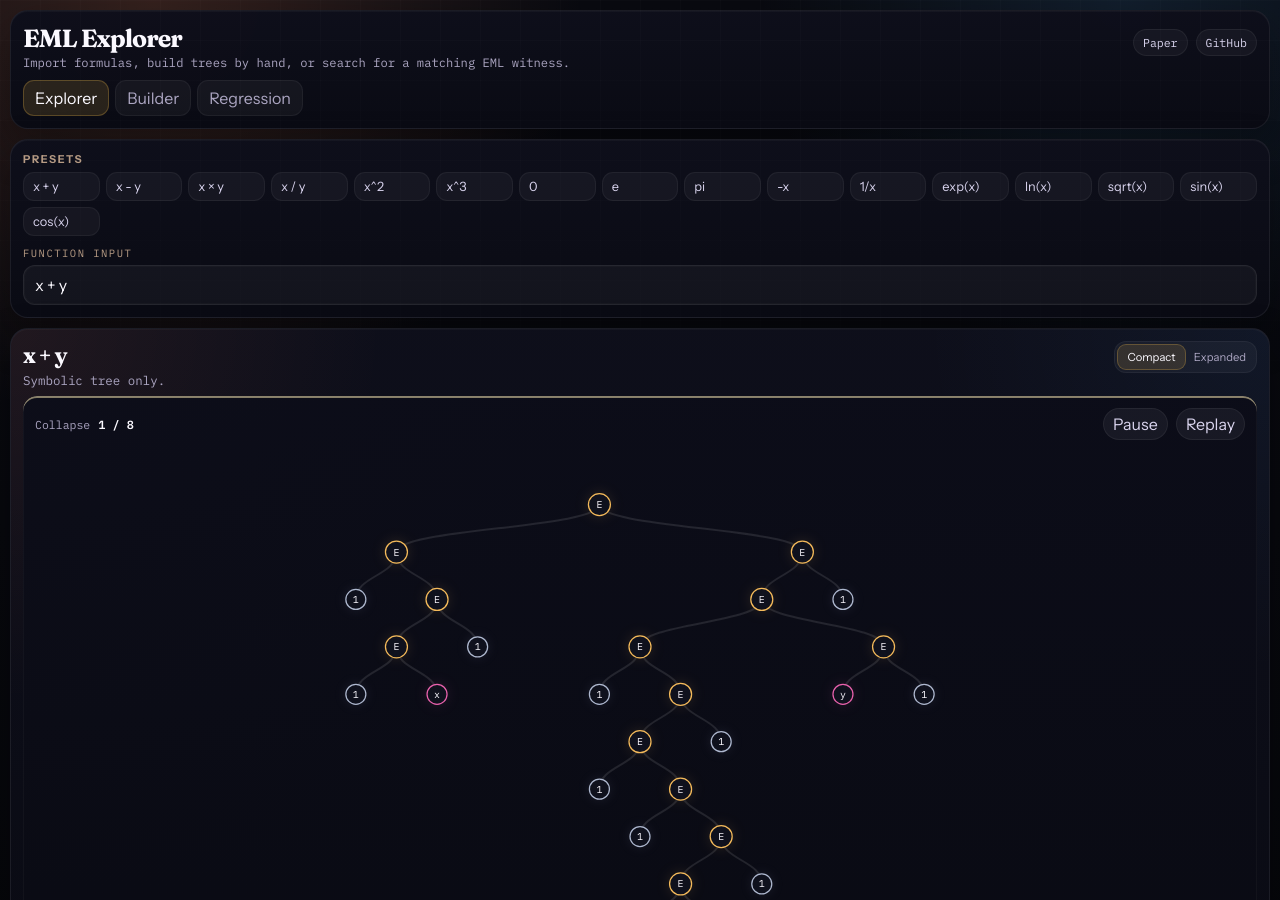
Scenario: App › loads a preset operation into the explorer from the top button bar
The width and height of the screenshot is (1280, 900).
Click the button with test id "preset-button-sub-xy" at (144, 186), box [106,172,182,201]
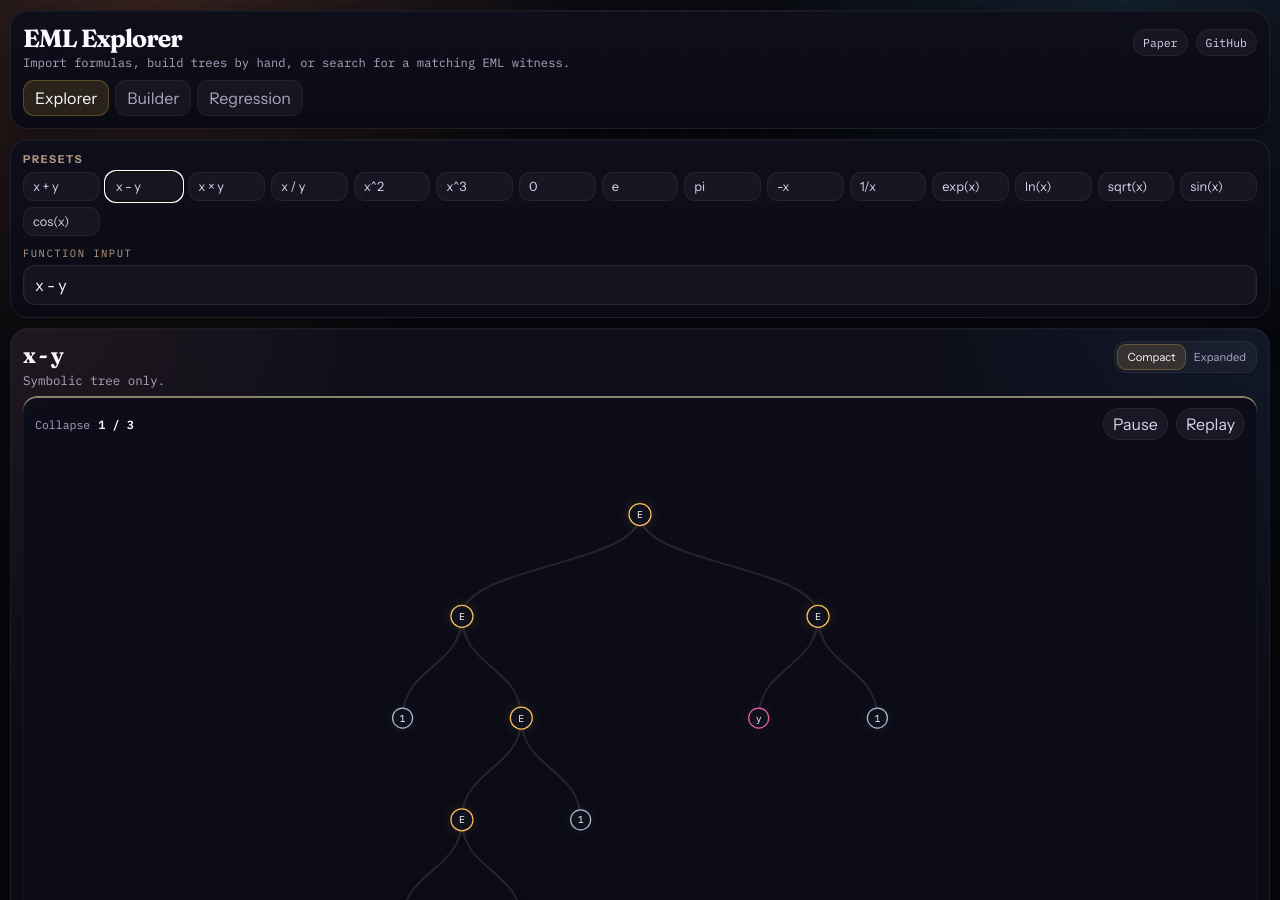
Check: the field with test id "import-input" holds "x - y", box [23,265,1257,305]
Check: the heading with test id "gallery-title" reads "x - y", box [23,341,63,369]
